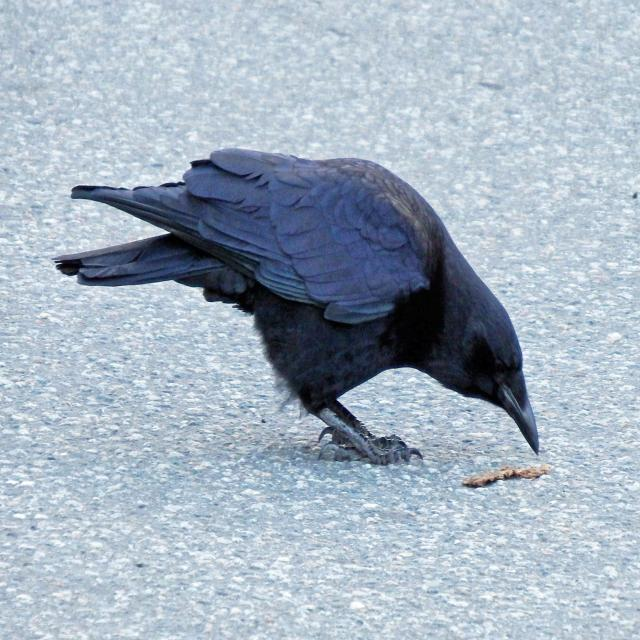crow: (188, 145, 551, 470)
